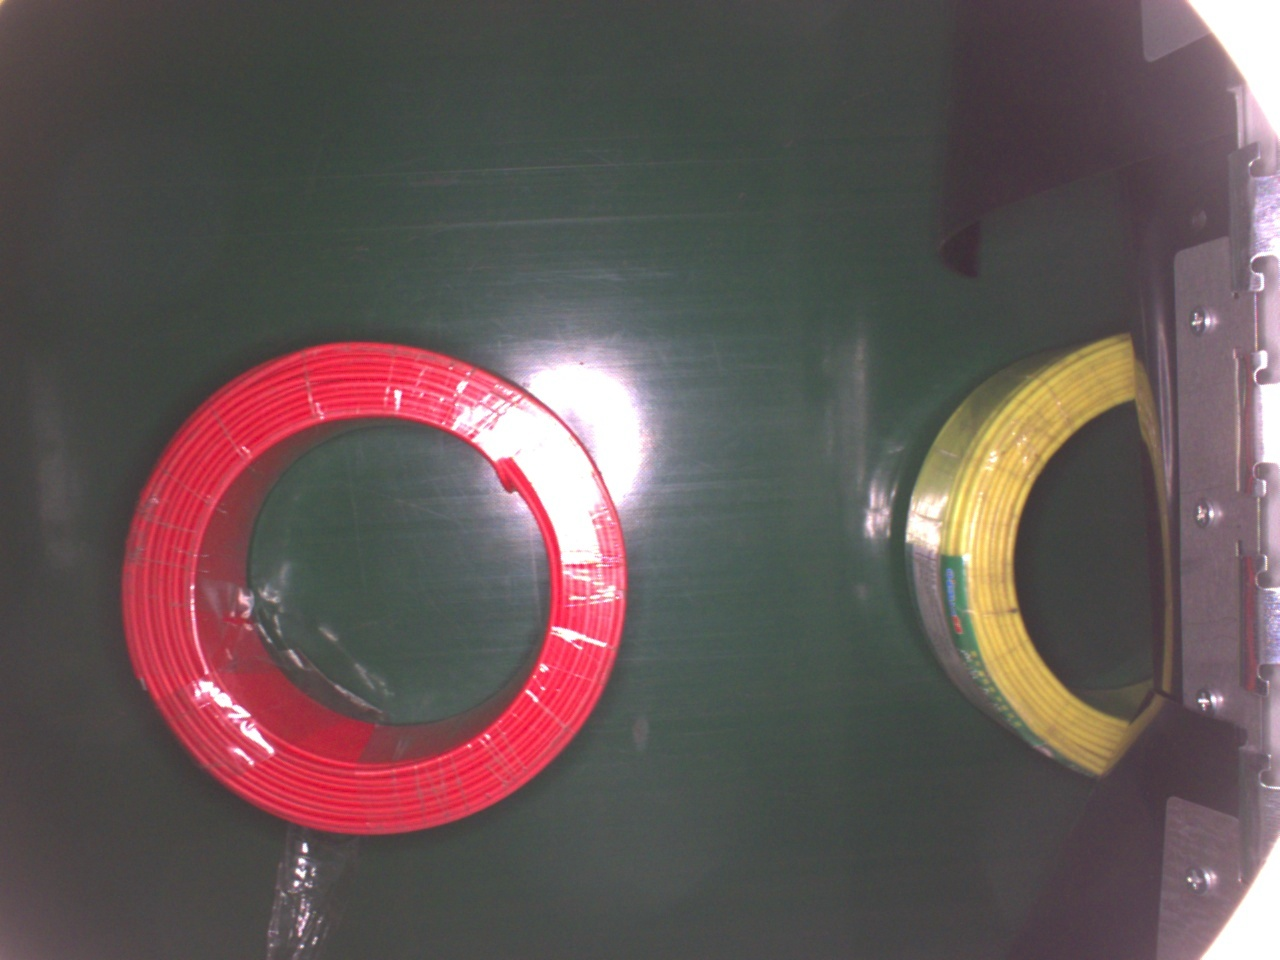red: (117, 337, 629, 838)
yellow: (903, 330, 1161, 776)
